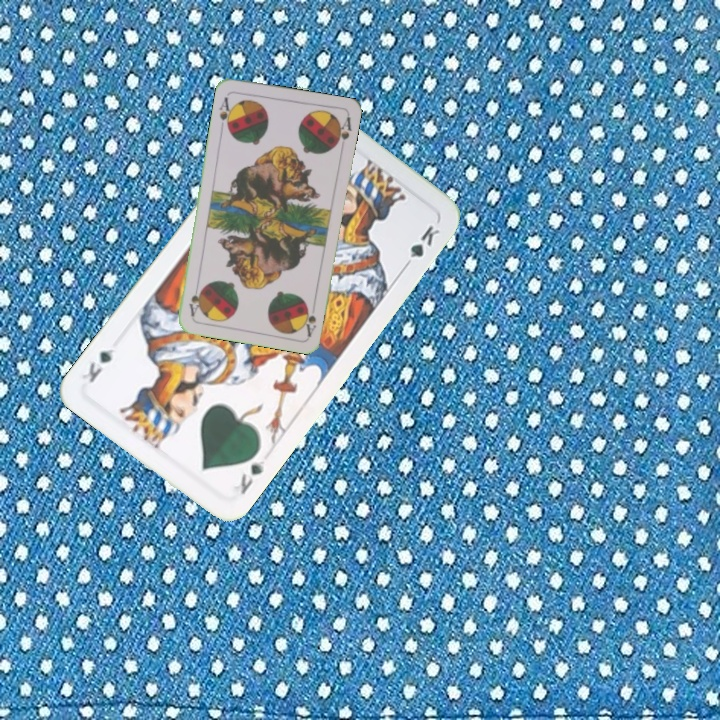GK: (229, 454, 268, 497)
SA: (215, 93, 236, 133), (300, 302, 319, 338)
